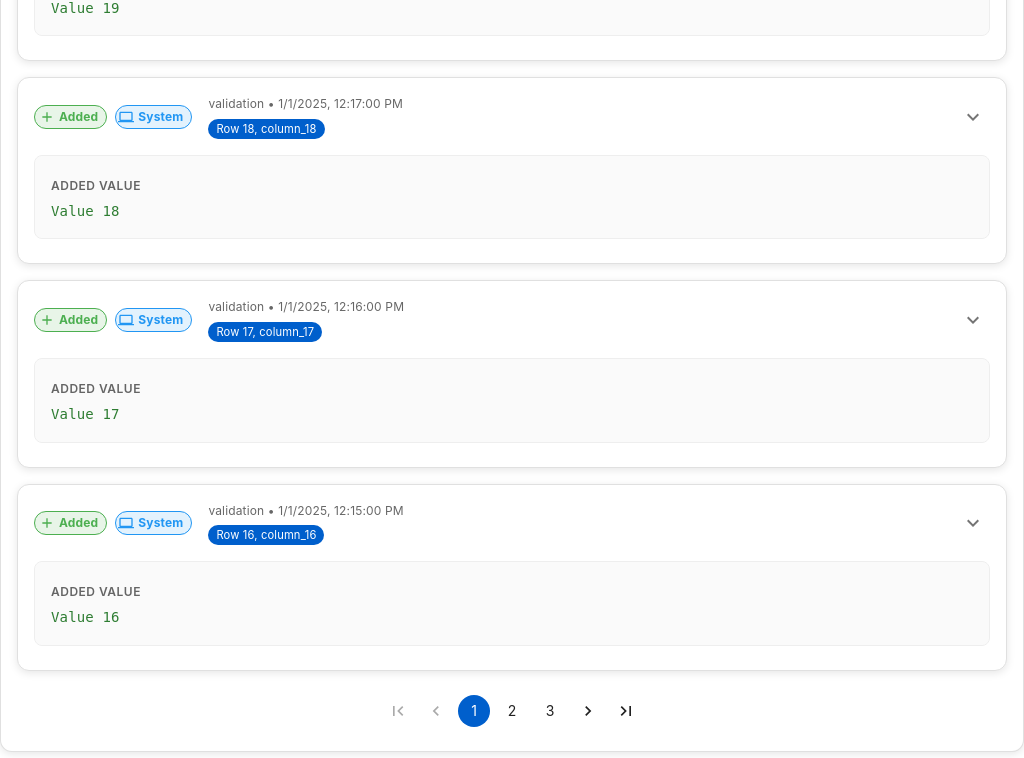
Test: DetailedChangesList › Pagination › should navigate to next page
The width and height of the screenshot is (1024, 758).
(page scrolled)
// Click next page
Click the button named "go to page 2" at (512, 711), box top-left (496, 695), bottom-right (528, 727)
(page scrolled)
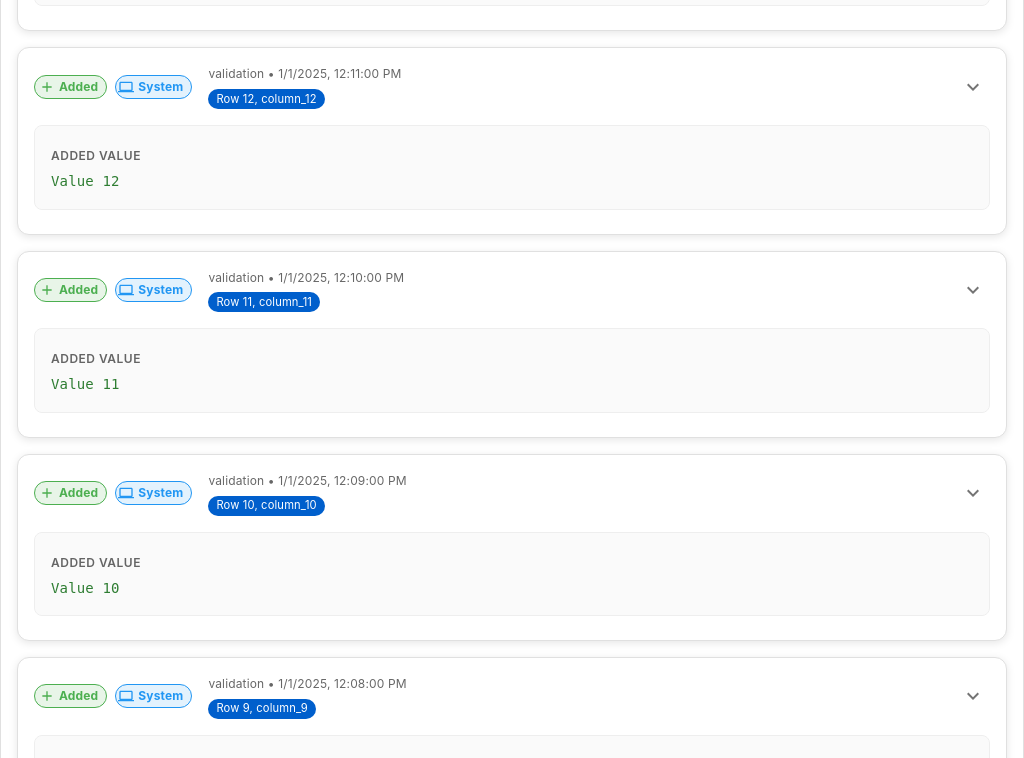
Expected: the text "Value 11" is shown, top-left (51, 376), bottom-right (120, 392)
